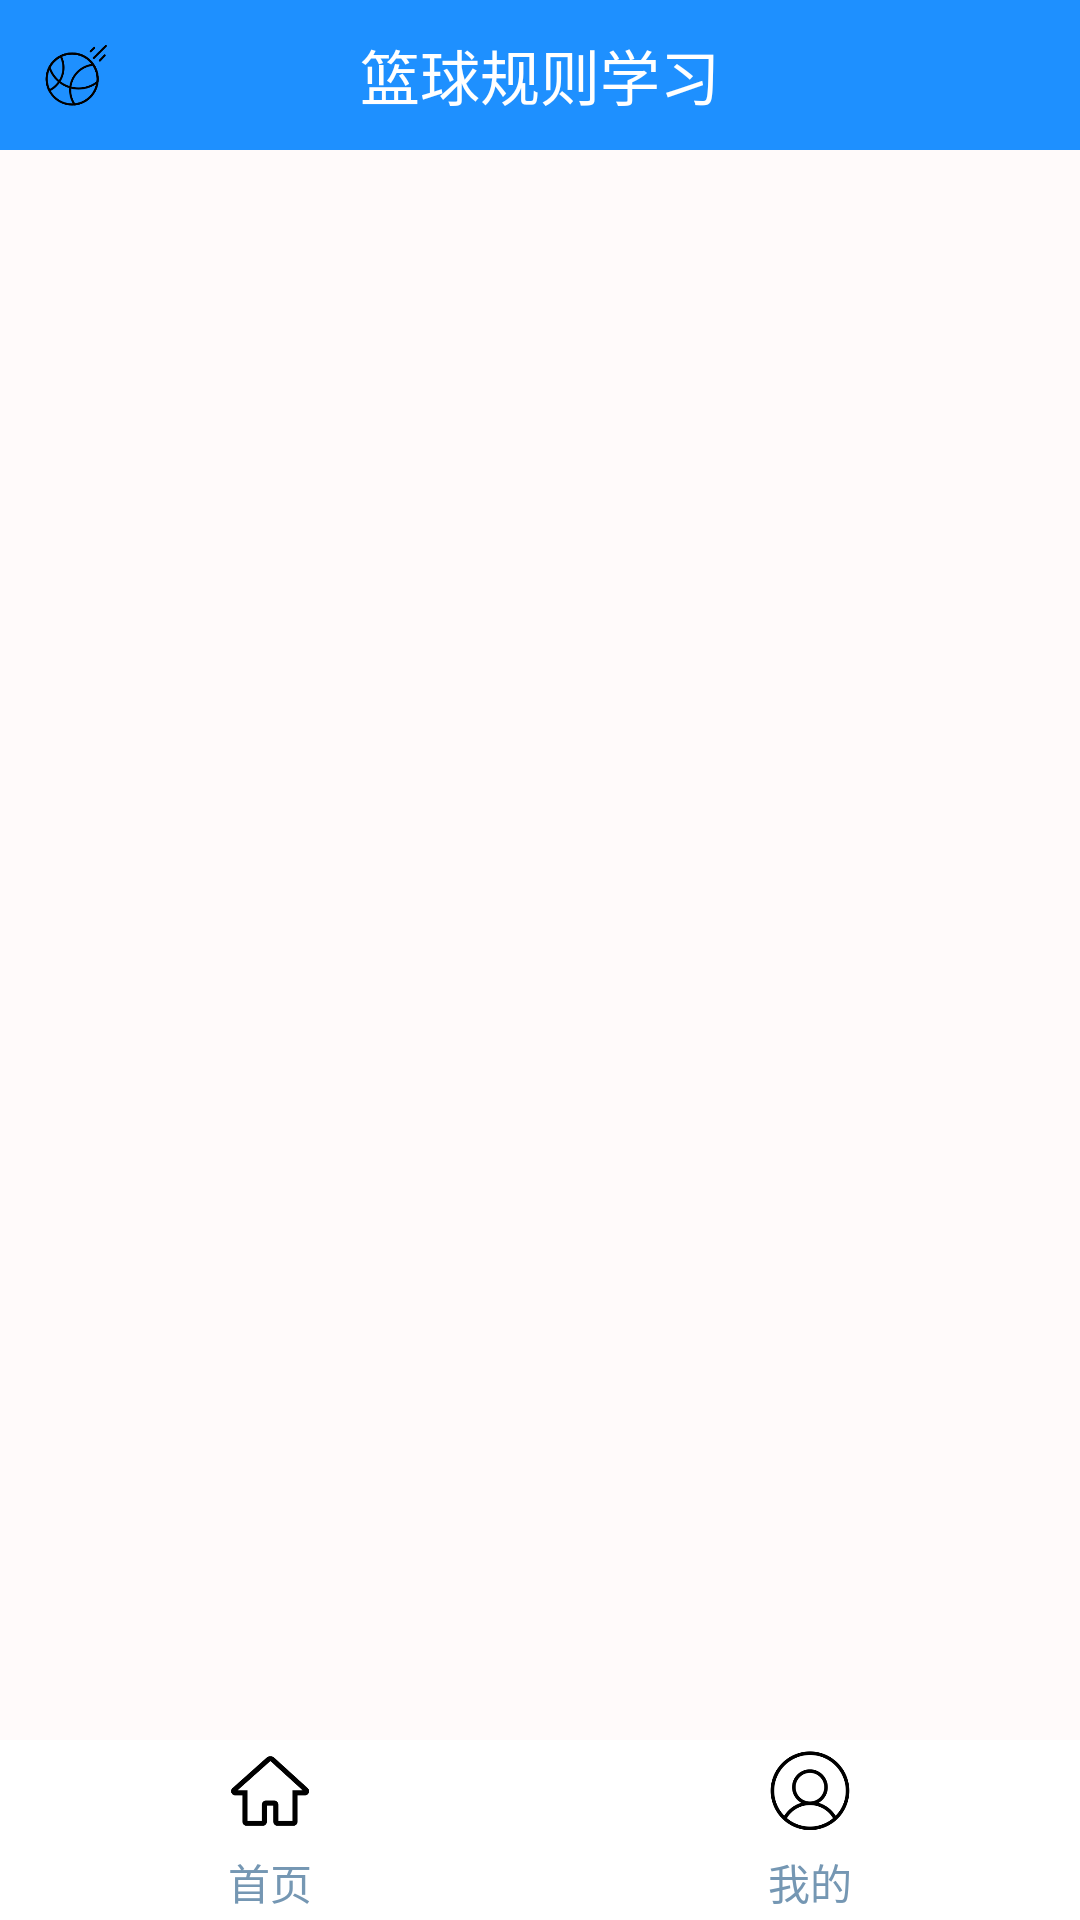

Screen size 1080*1920. Icon name, then its center in pixels as point (x, y):
lanqiu: point (76, 75)
